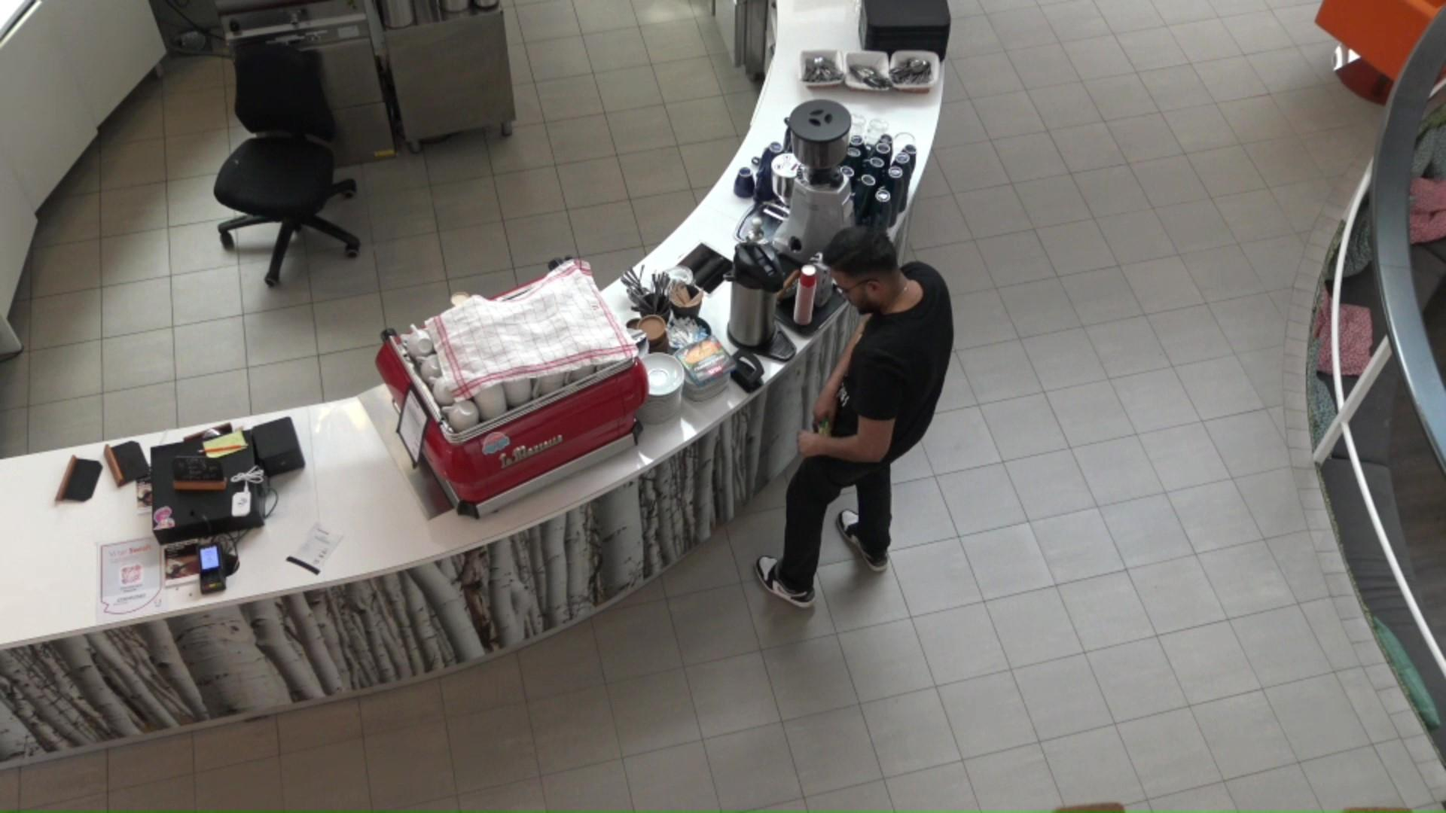shoplifting: (755, 226, 953, 607)
